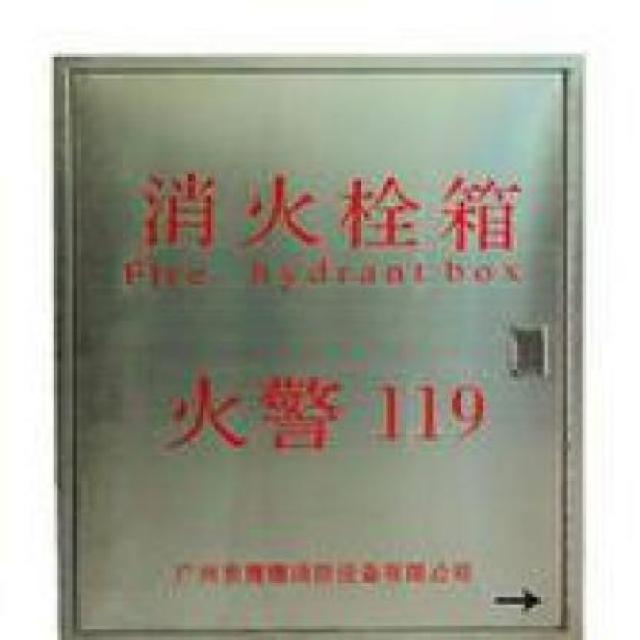firehydrant: (46, 46, 590, 640)
